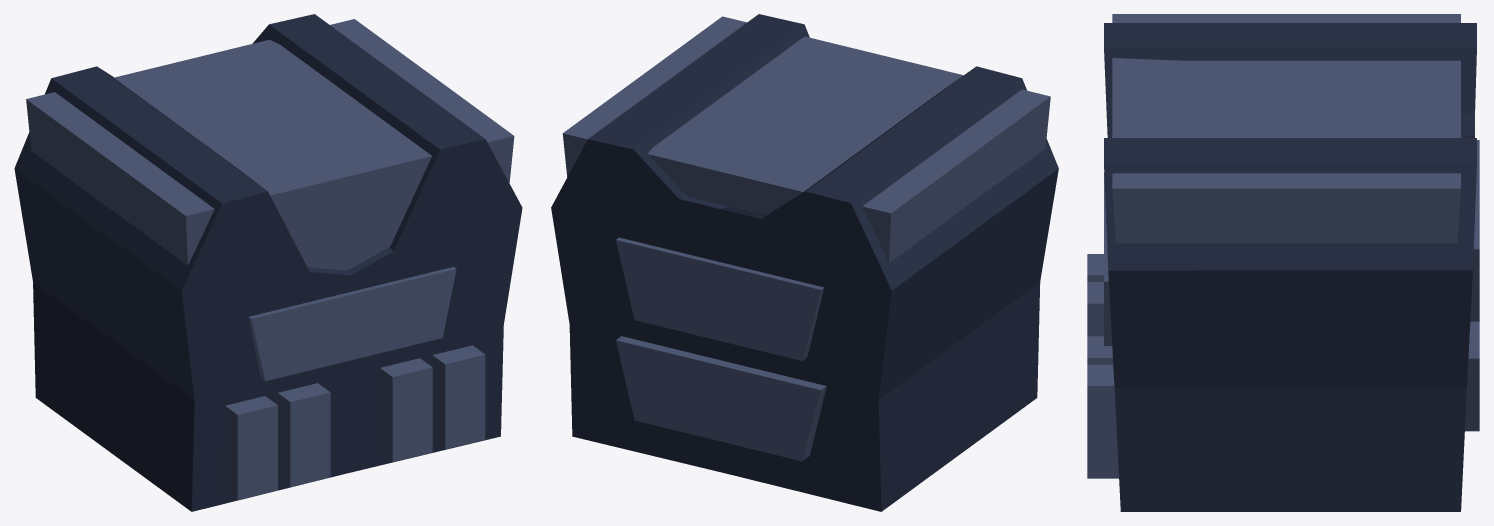
Rendered from vest.obj.
3 views of the same model, side by side, from view 1: azimuth 30°, elevation 25°; view 2: azimuth 150°, elevation 25°; view 3: azimuth 270°, elevation 25° (orthographic). The views are drawn at different scales.
Visible parts, largest first — view 1: vest.obj; view 2: vest.obj; view 3: vest.obj.
Part boxes in pixels (x1,y1,x2,y2): vest.obj: (14, 14, 522, 511); vest.obj: (551, 14, 1058, 511); vest.obj: (1087, 14, 1479, 511).
Bounding box in the file's own units: 0.5282 × 0.458 × 0.4823.
